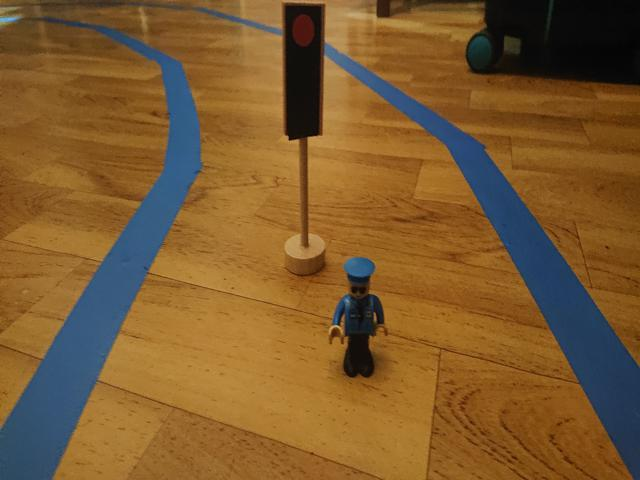person: (330, 257, 388, 382)
red light: (288, 10, 320, 122)
